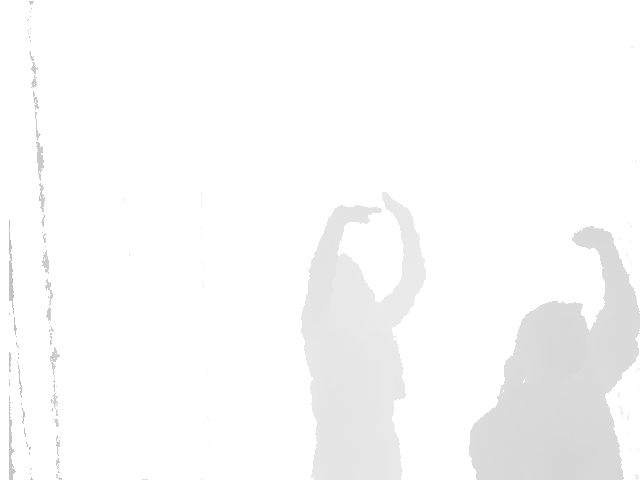hand: (571, 226, 616, 248), (380, 191, 411, 221), (335, 204, 383, 223)
head: (508, 301, 592, 384), (329, 255, 376, 307)
person: (467, 225, 640, 480), (299, 192, 427, 480)
